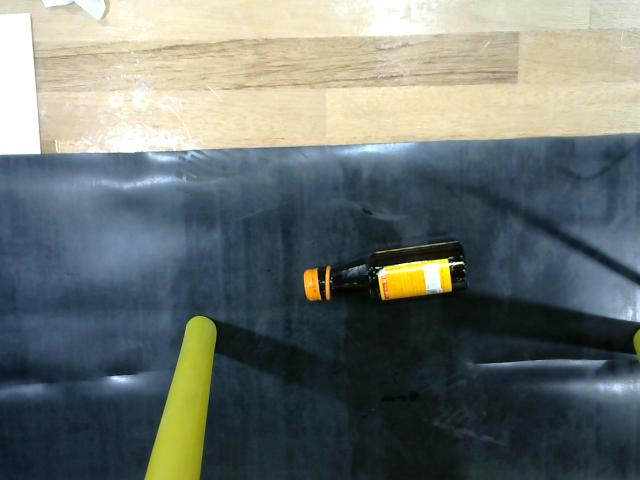glass: (285, 232, 478, 311)
